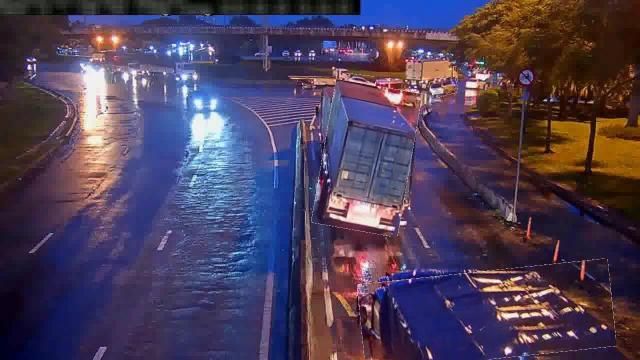Car: (342, 74, 374, 90), (430, 78, 458, 96)
Truck: (359, 265, 615, 359), (318, 82, 417, 234)
